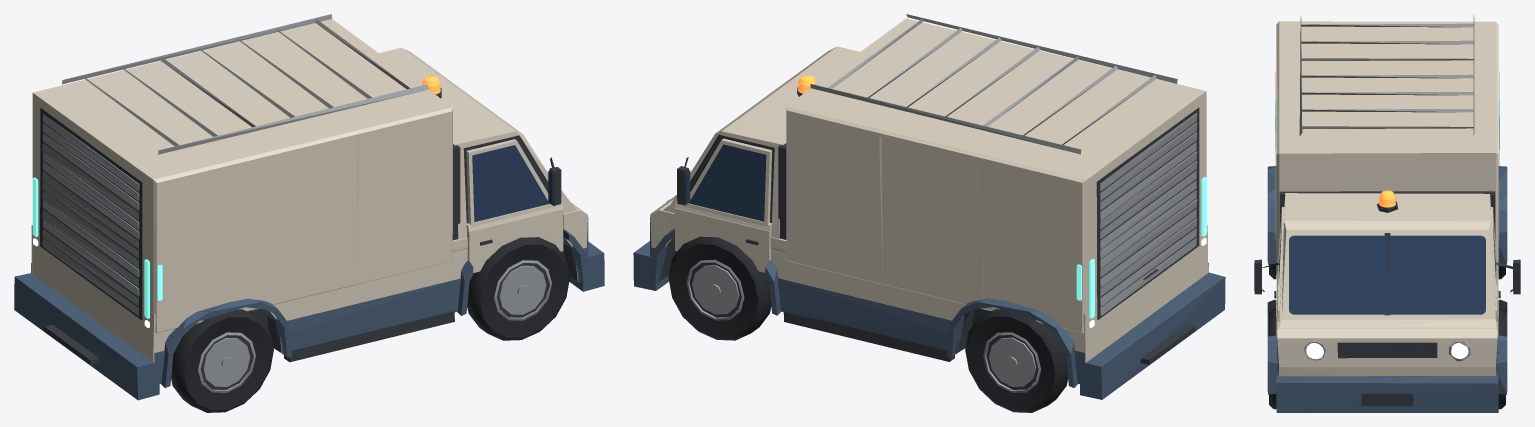
3 views of the same model, side by side, from view 1: azimuth 30°, elevation 25°; view 2: azimuth 150°, elevation 25°; view 3: azimuth 270°, elevation 25° (orthographic). The views are drawn at different scales.
Visible parts, largest first — view 1: G27_body, door-right, wheel-rear-right, wheel-front-right; view 2: G27_body, door-left, wheel-rear-left, wheel-front-left; view 3: G27_body, door-right, door-left, wheel-front-left, wheel-front-right.
Part boxes in pixels (x1,y1,x2,y2): G27_body: [14, 14, 604, 400]; door-right: [463, 135, 563, 272]; wheel-rear-right: [171, 309, 273, 412]; wheel-front-right: [467, 237, 569, 340]; G27_body: [633, 14, 1225, 399]; door-left: [675, 135, 774, 272]; wheel-rear-left: [965, 309, 1067, 412]; wheel-front-left: [668, 236, 771, 340]; G27_body: [1254, 14, 1520, 412]; door-right: [1274, 207, 1284, 335]; door-left: [1490, 207, 1500, 335]; wheel-front-left: [1498, 308, 1505, 409]; wheel-front-right: [1269, 308, 1276, 409].
Bounding box in the file's own units: 4.94 × 2.6 × 2.64.
